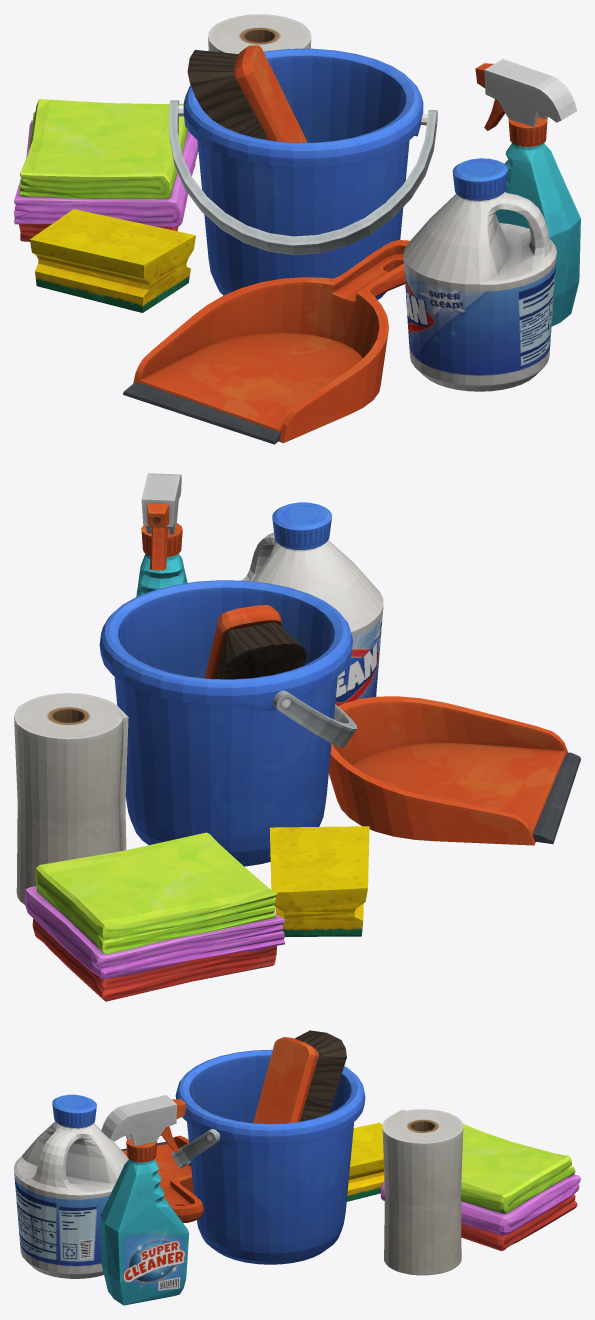
File: Cleaning supplies.fbx
3 renders of one model, top to bottom at view 1: azimuth 30°, elevation 25°; view 2: azimuth 150°, elevation 25°; view 3: azimuth 270°, elevation 25°, orthographic. The views are drawn at different scales.
Visible parts, largest first — view 1: SM_Bucket_CleaningSupplies_0, SM_Dustpan_CleaningSupplies_0, SM_CleaningBottle_CleaningSupplies_0, SM_CleaningCloth_CleaningSupplies_0, SM_Sponge_CleaningSupplies_0, SM_CleaningSpray_CleaningSupplies_0, SM_HandBroom_CleaningSupplies_0, SM_PaperRoll_CleaningSupplies_0; view 2: SM_Bucket_CleaningSupplies_0, SM_CleaningCloth_CleaningSupplies_0, SM_Dustpan_CleaningSupplies_0, SM_PaperRoll_CleaningSupplies_0, SM_CleaningBottle_CleaningSupplies_0, SM_Sponge_CleaningSupplies_0, SM_HandBroom_CleaningSupplies_0, SM_CleaningSpray_CleaningSupplies_0; view 3: SM_Bucket_CleaningSupplies_0, SM_CleaningBottle_CleaningSupplies_0, SM_CleaningSpray_CleaningSupplies_0, SM_PaperRoll_CleaningSupplies_0, SM_CleaningCloth_CleaningSupplies_0, SM_HandBroom_CleaningSupplies_0, SM_Sponge_CleaningSupplies_0, SM_Dustpan_CleaningSupplies_0.
Part boxes in pixels (<box>): SM_Bucket_CleaningSupplies_0: <box>169,48,437,299</box>; SM_Dustpan_CleaningSupplies_0: <box>123,240,409,444</box>; SM_CleaningBottle_CleaningSupplies_0: <box>403,158,556,391</box>; SM_CleaningCloth_CleaningSupplies_0: <box>14,99,198,241</box>; SM_Sponge_CleaningSupplies_0: <box>30,209,195,312</box>; SM_CleaningSpray_CleaningSupplies_0: <box>475,59,580,326</box>; SM_HandBroom_CleaningSupplies_0: <box>187,45,307,142</box>; SM_PaperRoll_CleaningSupplies_0: <box>208,14,311,53</box>; SM_Bucket_CleaningSupplies_0: <box>99,580,357,866</box>; SM_CleaningCloth_CleaningSupplies_0: <box>24,832,284,1001</box>; SM_Dustpan_CleaningSupplies_0: <box>329,696,580,845</box>; SM_PaperRoll_CleaningSupplies_0: <box>14,693,128,904</box>; SM_CleaningBottle_CleaningSupplies_0: <box>241,502,383,705</box>; SM_Sponge_CleaningSupplies_0: <box>269,826,369,936</box>; SM_HandBroom_CleaningSupplies_0: <box>205,605,307,679</box>; SM_CleaningSpray_CleaningSupplies_0: <box>136,473,187,596</box>; SM_Bucket_CleaningSupplies_0: <box>171,1049,365,1264</box>; SM_CleaningBottle_CleaningSupplies_0: <box>14,1094,128,1278</box>; SM_CleaningSpray_CleaningSupplies_0: <box>100,1094,189,1305</box>; SM_PaperRoll_CleaningSupplies_0: <box>382,1109,463,1275</box>; SM_CleaningCloth_CleaningSupplies_0: <box>380,1123,580,1250</box>; SM_HandBroom_CleaningSupplies_0: <box>253,1030,346,1123</box>; SM_Sponge_CleaningSupplies_0: <box>346,1122,384,1201</box>; SM_Dustpan_CleaningSupplies_0: <box>121,1135,203,1222</box>.
Size of the model in its own units: 0.6334 by 0.3393 by 0.9261.
Materials: 1 (1 with a texture image).
